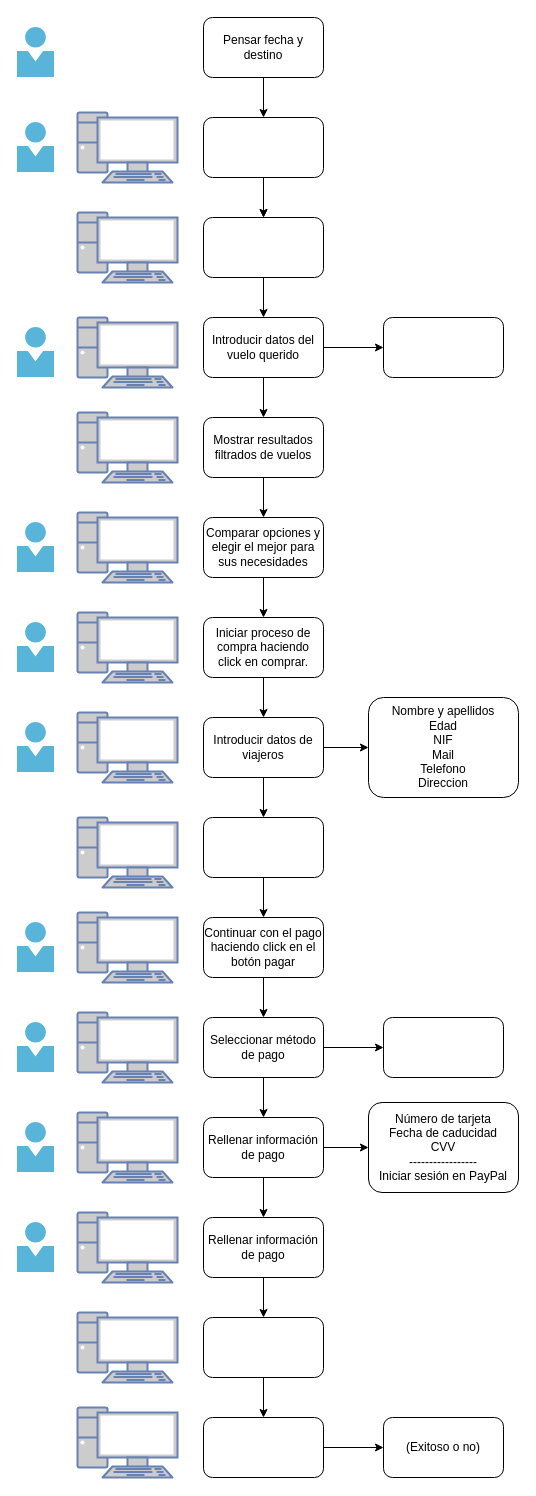
The diagram is 536 pixels wide and 1496 high, and some of its shapes have lost their labels. Each missing label, with the centre of its shape:
Comprobar datos correctos: pixel 263 847
Destino Fecha Num Viajeros: pixel 443 347
Entrar en página de vuelos: pixel 263 147
Enviar factura al cliente: pixel 263 1347
Mostrar resultados de la acción: pixel 263 1447
Mostrar vuelos: pixel 263 247
PayPal Tarjeta Bancaria: pixel 443 1047
